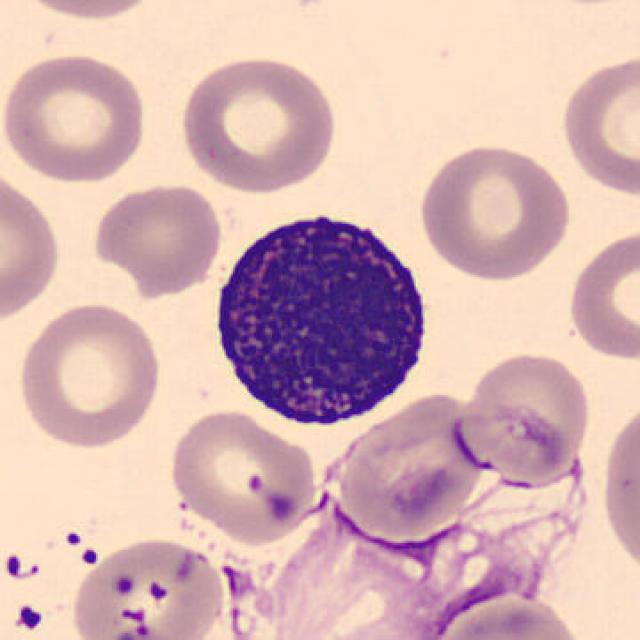Basophil: (204, 194, 441, 432)
Platelets: (13, 601, 46, 633)
RBC: (414, 137, 576, 284), (176, 51, 341, 194), (14, 298, 164, 451), (165, 406, 322, 546), (0, 49, 151, 185), (455, 348, 596, 480), (65, 530, 231, 640), (89, 178, 226, 296), (556, 51, 638, 199), (563, 222, 640, 365), (0, 164, 64, 328), (595, 395, 640, 583), (421, 594, 594, 640), (3, 0, 169, 23), (304, 619, 453, 640)
